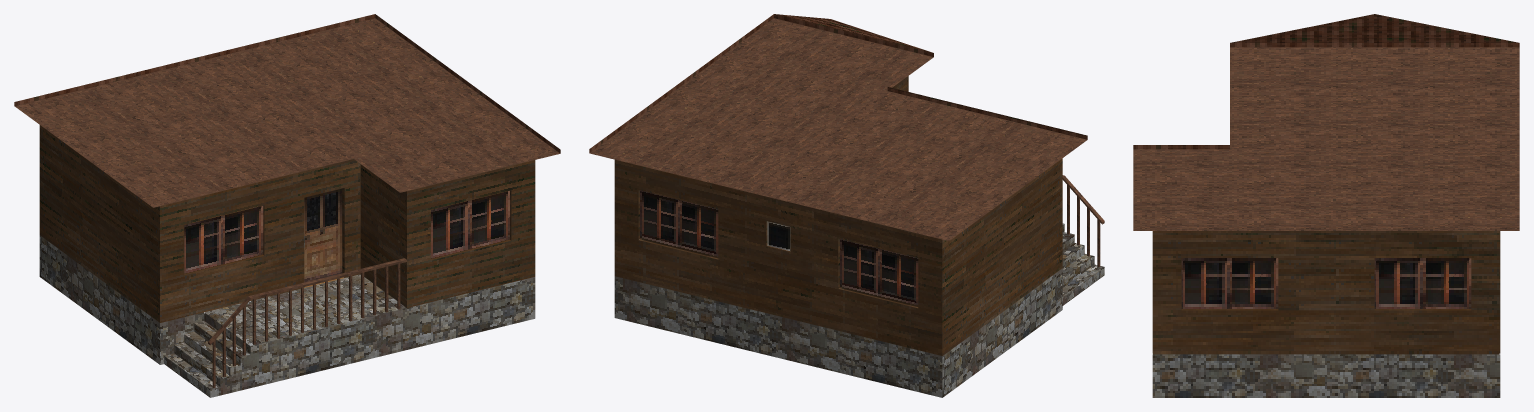
File: house2.glb
3 renders of one model, left to right at view 1: azimuth 30°, elevation 25°; view 2: azimuth 150°, elevation 25°; view 3: azimuth 270°, elevation 25°, orthographic. The views are drawn at different scales.
Parts seen in each view (by area): view 1: house22, house2_windows, house2_door1; view 2: house22, house2_windows; view 3: house22, house2_windows.
Part boxes in pixels (x1=…): house22: x1=14, y1=14, x2=560, y2=397; house2_windows: x1=184, y1=190, x2=511, y2=274; house2_door1: x1=304, y1=188, x2=342, y2=282; house22: x1=589, y1=14, x2=1104, y2=397; house2_windows: x1=638, y1=190, x2=918, y2=308; house22: x1=1133, y1=14, x2=1519, y2=397; house2_windows: x1=1181, y1=258, x2=1471, y2=310.
Bounding box in the file's own units: 9 × 5.6 × 8.
Materials: 5 (5 with a texture image).
